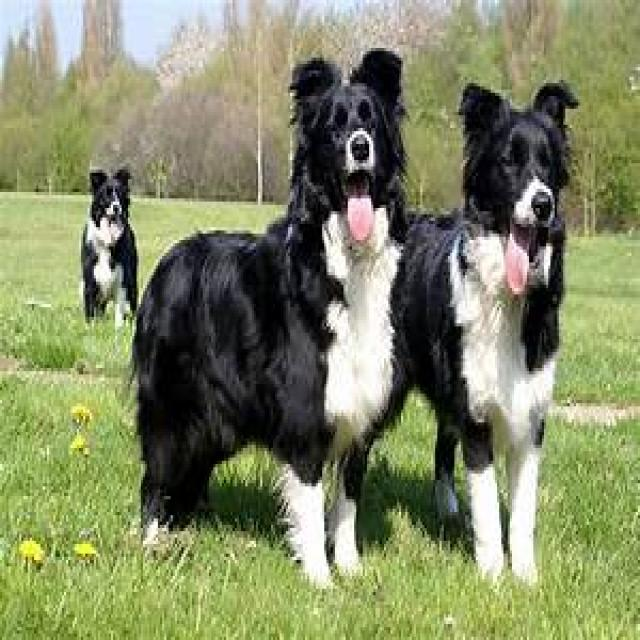dog: (132, 51, 408, 584), (404, 82, 578, 582), (81, 171, 138, 329)
